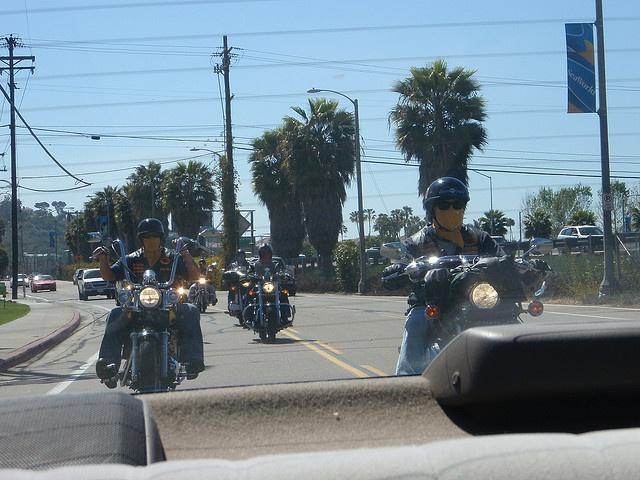non-vehicle: (79, 216, 228, 395), (379, 238, 553, 337), (242, 273, 297, 341), (223, 265, 250, 318), (191, 261, 218, 312)
